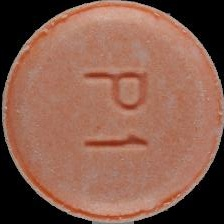52544-847: (0, 0, 224, 224)
